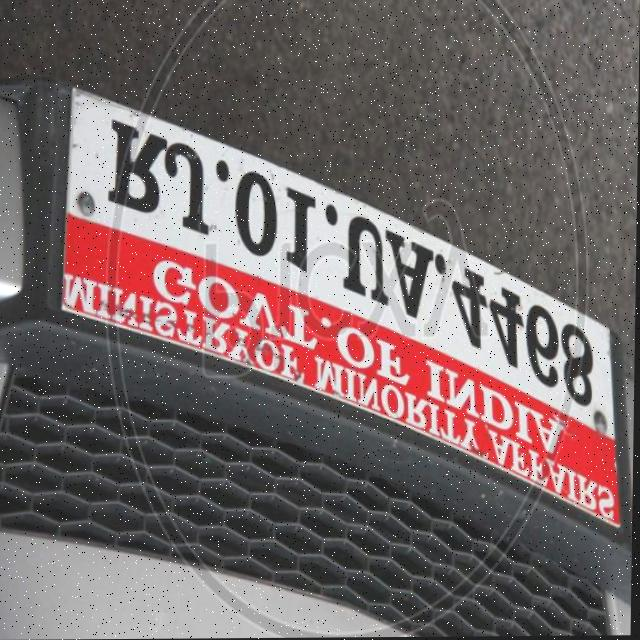plate: (41, 73, 639, 552)
